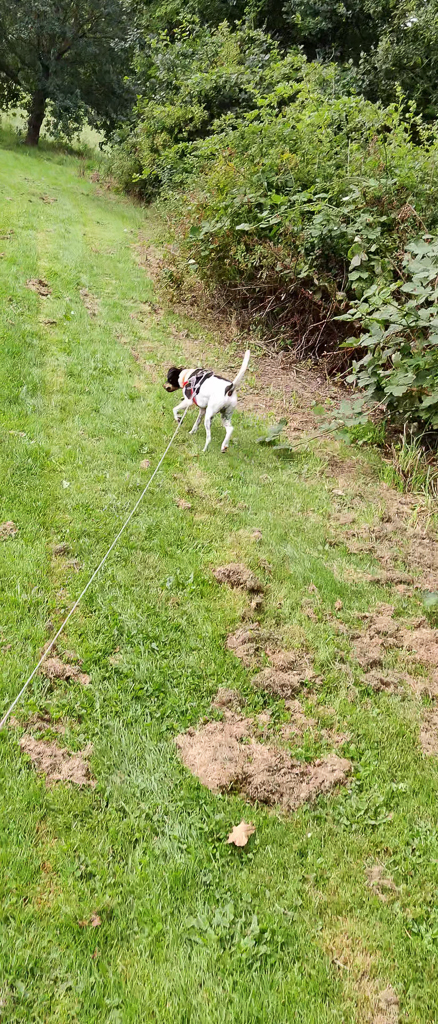Dog: (153, 340, 262, 460)
